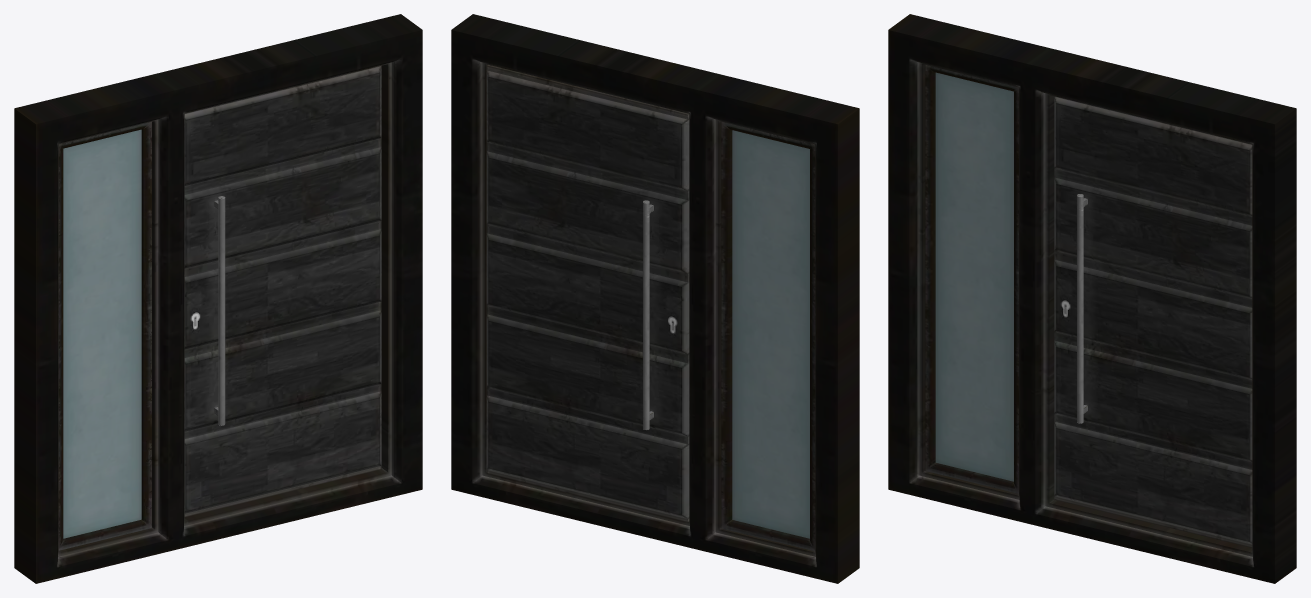
The model's file is d_wood_side.glb.
The picture shows the model from 3 angles, left to right: view 1: azimuth 30°, elevation 25°; view 2: azimuth 150°, elevation 25°; view 3: azimuth 330°, elevation 25°; orthographic projection.
Visible parts, largest first — view 1: door_Door_tex_0; view 2: door_Door_tex_0; view 3: door_Door_tex_0.
Part boxes in pixels (x1=…): door_Door_tex_0: x1=14, y1=14, x2=422, y2=583; door_Door_tex_0: x1=451, y1=14, x2=859, y2=583; door_Door_tex_0: x1=888, y1=14, x2=1296, y2=583.
Size of the model in its own units: 2.03 by 2.3 by 0.2384.
1 material, 1 textured.
